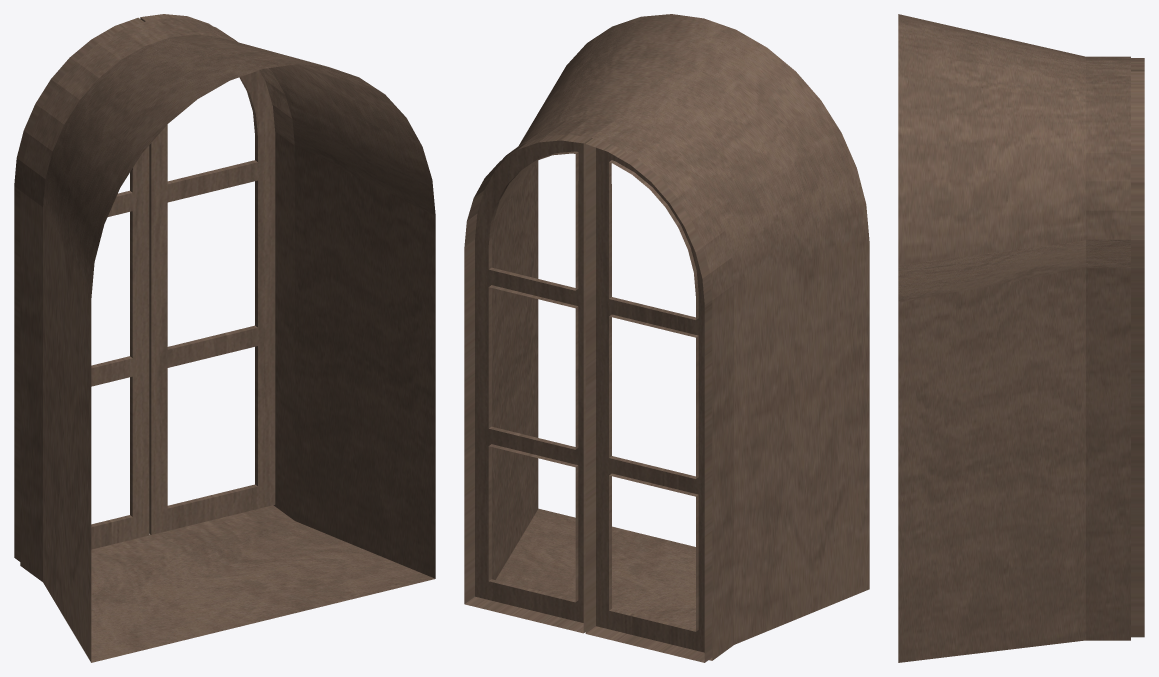
3 renders of one model, left to right at view 1: azimuth 30°, elevation 25°; view 2: azimuth 150°, elevation 25°; view 3: azimuth 270°, elevation 25°, orthographic. The views are drawn at different scales.
Visible parts, largest first — view 1: M_Mesh_W_201_g_4x6_01-1, M_Mesh_W_201_g_4x6_01-2; view 2: M_Mesh_W_201_g_4x6_01-1, M_Mesh_W_201_g_4x6_01-2; view 3: M_Mesh_W_201_g_4x6_01-1, M_Mesh_W_201_g_4x6_01-2.
Boxes of the visible parts, x1,y1,x2,y2 form: M_Mesh_W_201_g_4x6_01-1: [20, 18, 435, 662]; M_Mesh_W_201_g_4x6_01-2: [14, 14, 275, 561]; M_Mesh_W_201_g_4x6_01-1: [491, 14, 869, 660]; M_Mesh_W_201_g_4x6_01-2: [464, 134, 712, 662]; M_Mesh_W_201_g_4x6_01-1: [898, 14, 1130, 662]; M_Mesh_W_201_g_4x6_01-2: [1131, 58, 1144, 637].
Bounding box in the file's own units: 2.78 × 4.26 × 1.74.
